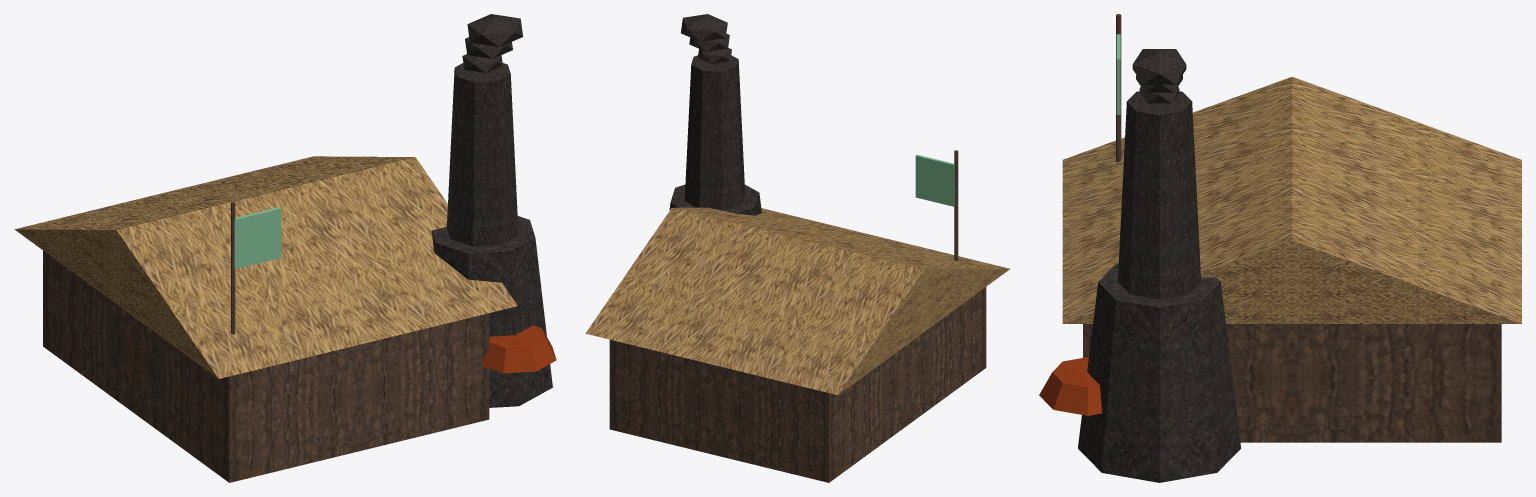
File: edificio-forge-e0-BhCQ9rqt.glb
3 renders of one model, left to right at view 1: azimuth 30°, elevation 25°; view 2: azimuth 150°, elevation 25°; view 3: azimuth 270°, elevation 25°, orthographic. The views are drawn at different scales.
Parts seen in each view (by area): view 1: edificio-forge-e0_detalles, edificio-forge-e0_envolvente, edificio-forge-e0_team_color; view 2: edificio-forge-e0_detalles, edificio-forge-e0_envolvente, edificio-forge-e0_team_color; view 3: edificio-forge-e0_detalles, edificio-forge-e0_envolvente.
Part boxes in pixels (x1=…): edificio-forge-e0_detalles: x1=14, y1=14, x2=556, y2=378; edificio-forge-e0_envolvente: x1=43, y1=63, x2=552, y2=482; edificio-forge-e0_team_color: x1=234, y1=207, x2=281, y2=268; edificio-forge-e0_detalles: x1=585, y1=14, x2=1009, y2=395; edificio-forge-e0_envolvente: x1=609, y1=55, x2=986, y2=482; edificio-forge-e0_team_color: x1=915, y1=154, x2=954, y2=206; edificio-forge-e0_detalles: x1=1039, y1=14, x2=1521, y2=415; edificio-forge-e0_envolvente: x1=1078, y1=91, x2=1501, y2=482.
Bounding box in the file's own units: 47 × 44.6 × 47.3.
3 materials, 2 textured.
